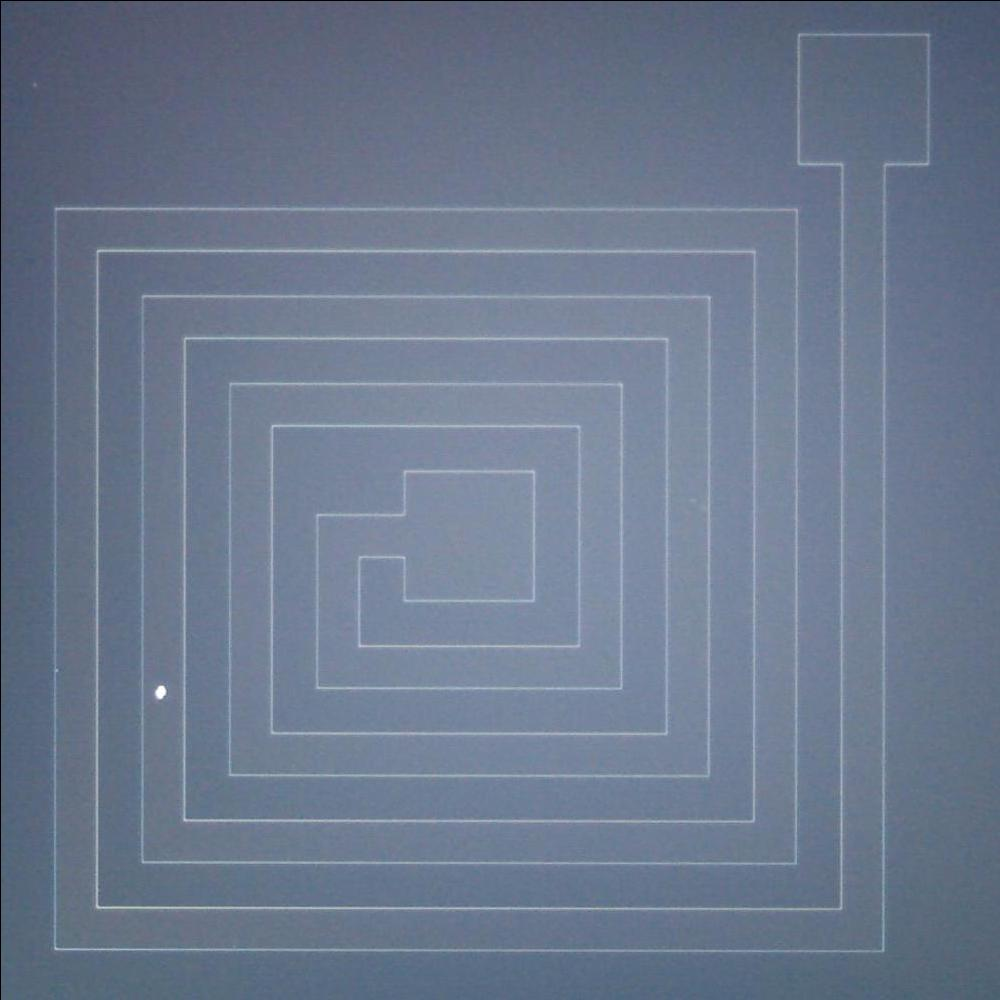spot: (146, 677, 173, 706)
